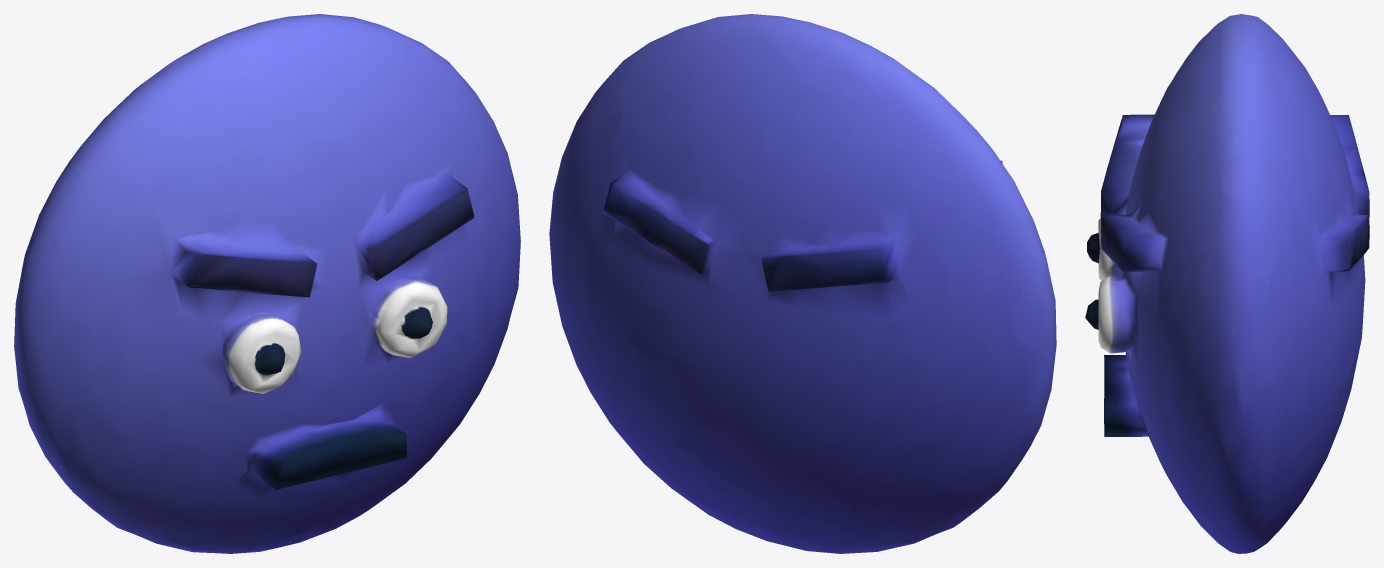
Rendered from grumps_3d.glb.
The picture shows the model from 3 angles, left to right: view 1: azimuth 30°, elevation 25°; view 2: azimuth 150°, elevation 25°; view 3: azimuth 270°, elevation 25°; orthographic projection. The views are drawn at different scales.
Visible parts, largest first — view 1: tripo_node_fc68c5bc-4d96-4864-b4b7-848150f691e5; view 2: tripo_node_fc68c5bc-4d96-4864-b4b7-848150f691e5; view 3: tripo_node_fc68c5bc-4d96-4864-b4b7-848150f691e5.
Part boxes in pixels (box(x1,y1,x2,y2)): tripo_node_fc68c5bc-4d96-4864-b4b7-848150f691e5: box(14, 14, 520, 553); tripo_node_fc68c5bc-4d96-4864-b4b7-848150f691e5: box(549, 14, 1056, 553); tripo_node_fc68c5bc-4d96-4864-b4b7-848150f691e5: box(1085, 14, 1369, 553).
Size of the model in its own units: 0.9984 by 1 by 0.5265.
1 material, 1 textured.
